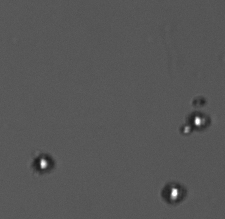Dead Cell: (189, 94, 207, 107)
Living Cell: (162, 182, 186, 205), (32, 152, 54, 174), (189, 110, 210, 131), (179, 123, 191, 135)
